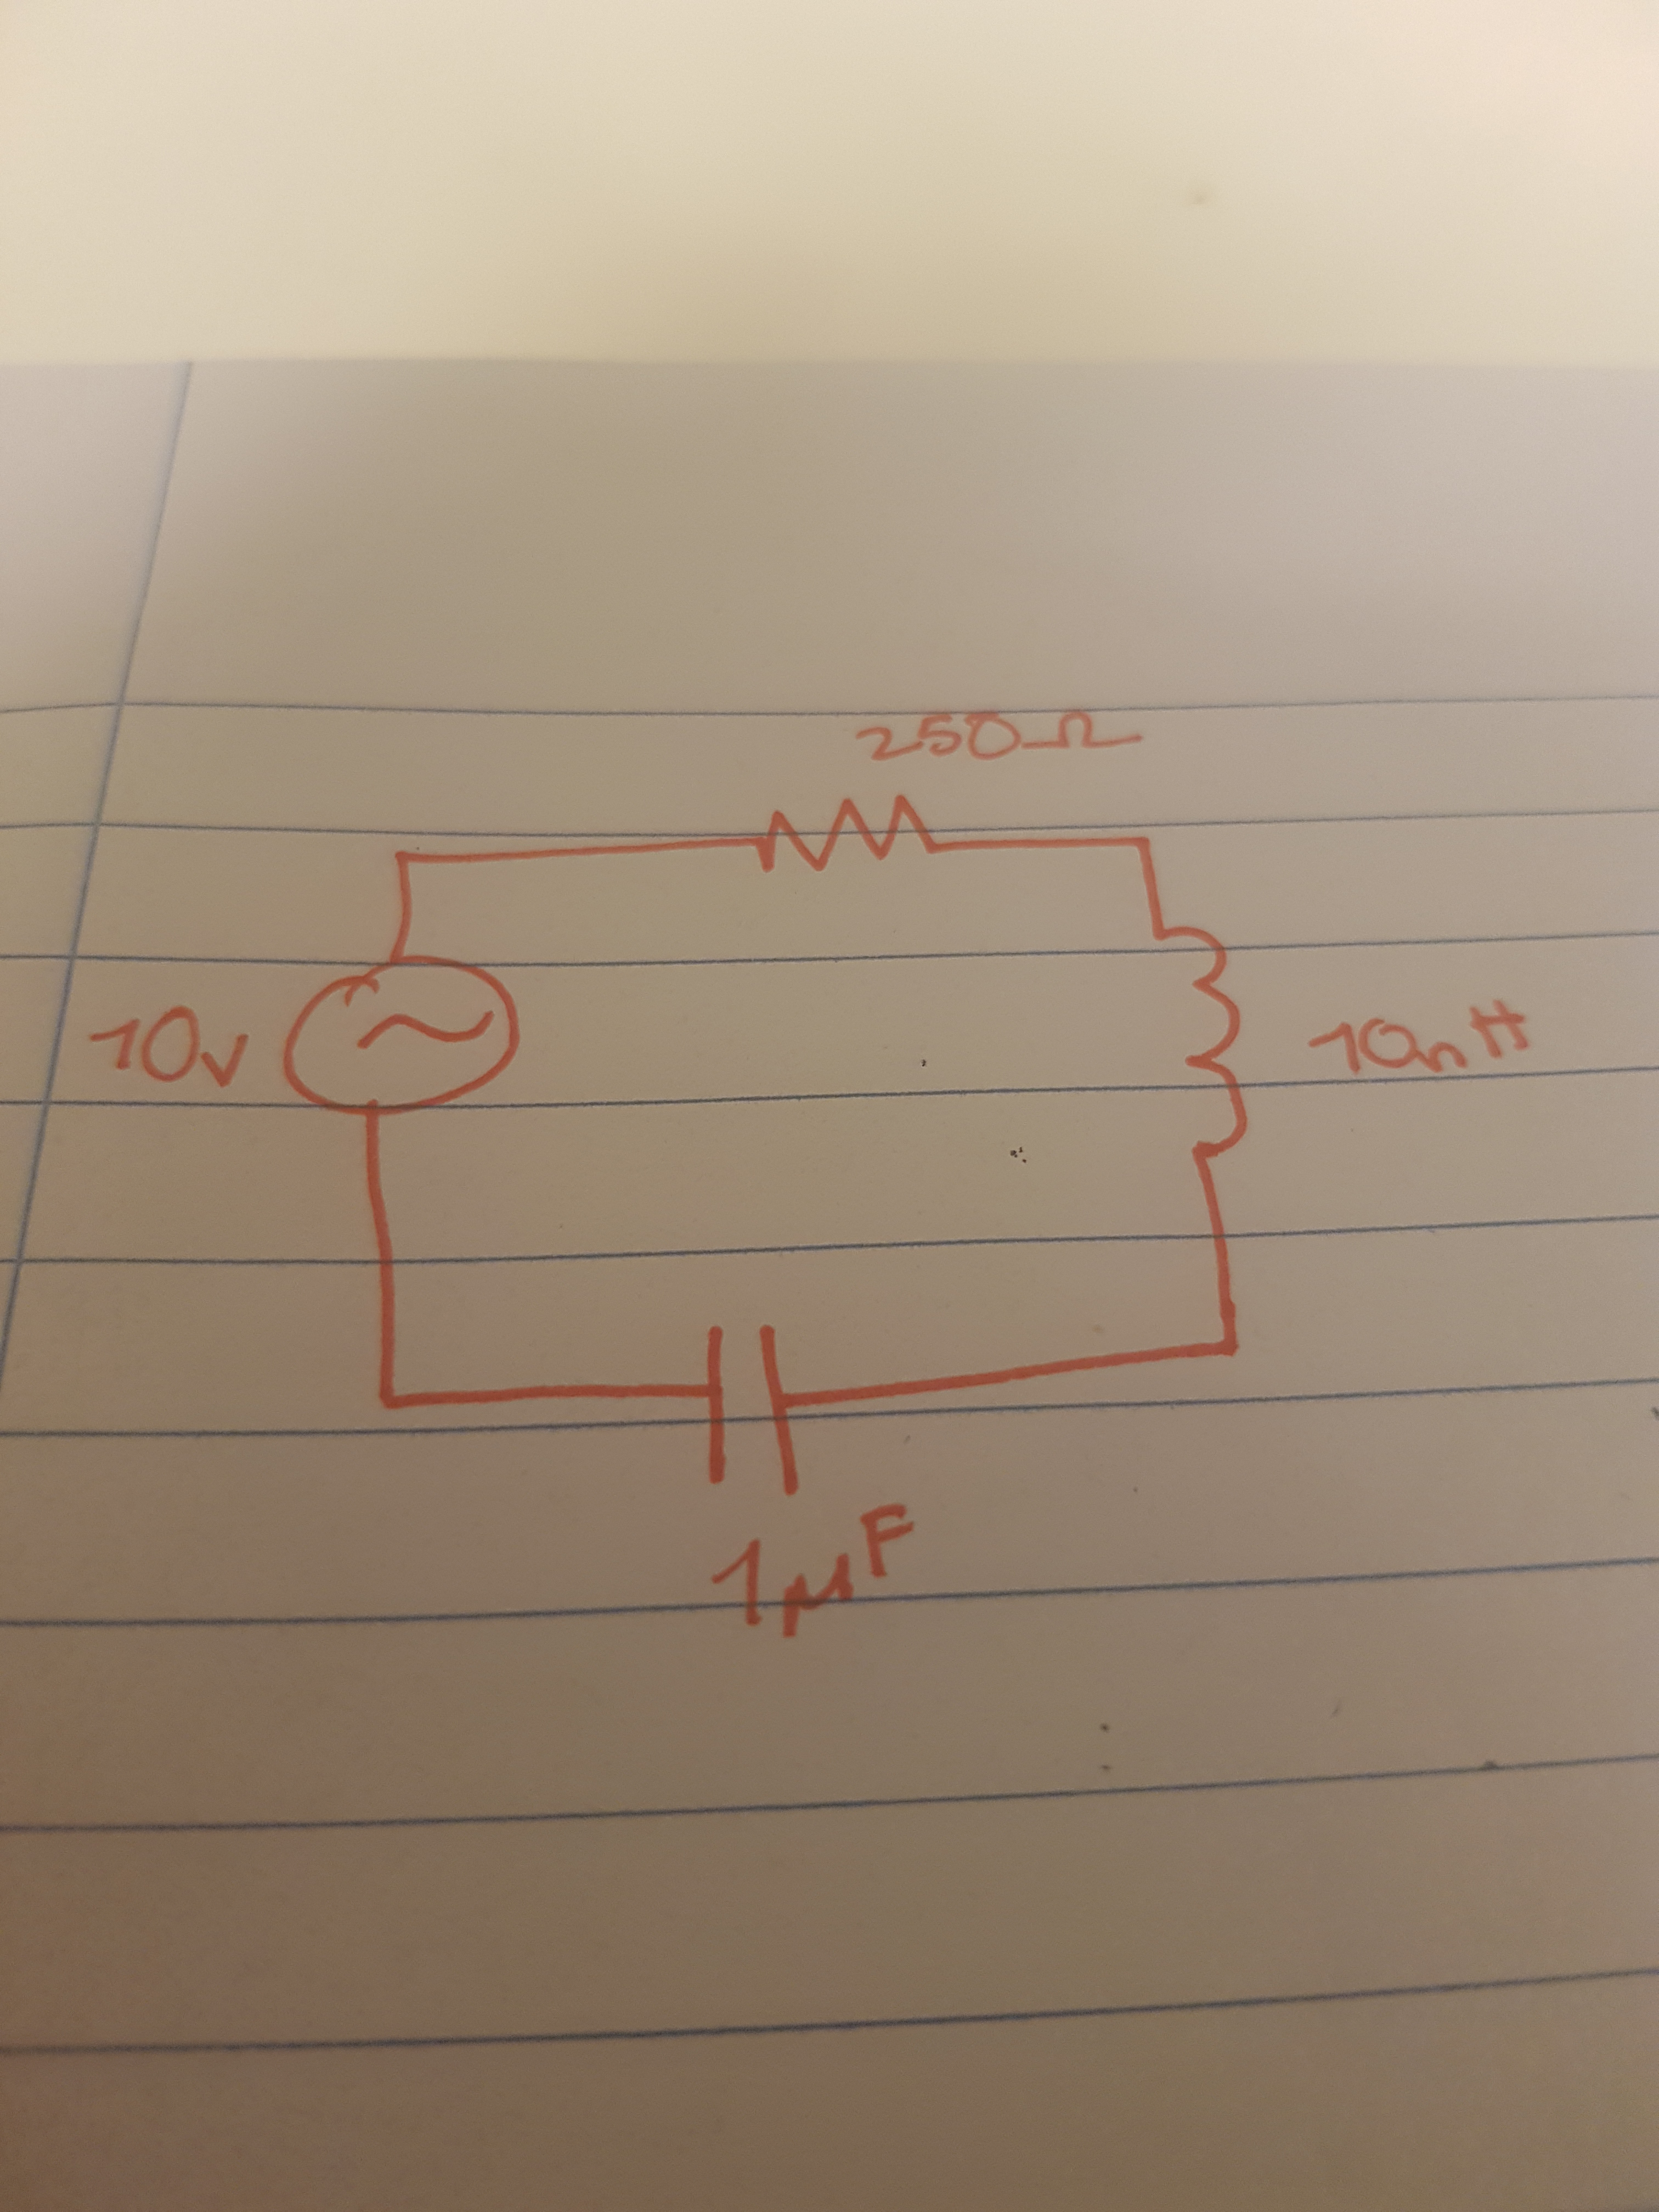capacitor.unpolarized: (678, 1306, 826, 1505)
inductor: (1134, 923, 1262, 1163)
junction: (1183, 1310, 1262, 1388), (350, 1369, 432, 1437), (366, 826, 451, 890), (1115, 822, 1173, 869)
resistor: (734, 786, 957, 885)
text: (711, 1501, 924, 1639), (1300, 991, 1539, 1082), (73, 998, 263, 1111), (852, 698, 1148, 770)
voltage.dc: (270, 953, 538, 1118)
